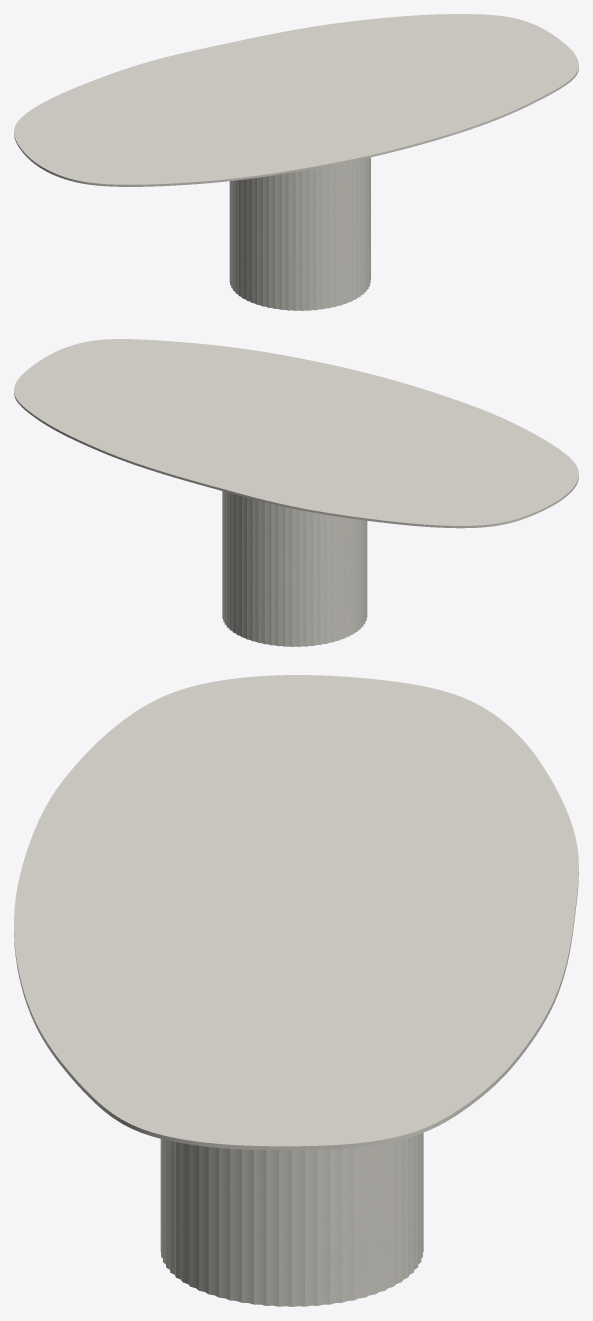
File: pale_danish_facet_ripple.glb
3 renders of one model, top to bottom at view 1: azimuth 30°, elevation 25°; view 2: azimuth 150°, elevation 25°; view 3: azimuth 270°, elevation 25°, orthographic. The views are drawn at different scales.
Parts seen in each view (by area): view 1: facet_danish, ripple; view 2: facet_danish, ripple; view 3: facet_danish, ripple.
Part boxes in pixels (x1,y1,x2,y2): facet_danish: [14, 14, 578, 186]; ripple: [229, 157, 370, 310]; facet_danish: [14, 339, 578, 528]; ripple: [222, 491, 367, 646]; facet_danish: [14, 675, 578, 1150]; ripple: [160, 1132, 423, 1306].
Bounding box in the file's own units: 7.5 × 2.51 × 3.8.
Materials: 1 (1 with a texture image).
